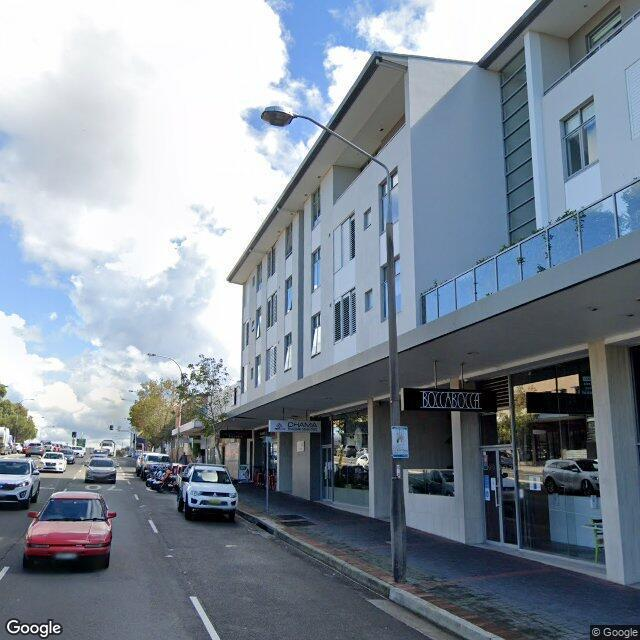steel-pole: (386, 167, 406, 583), (176, 372, 183, 462)
streetlight: (260, 103, 392, 179), (146, 351, 184, 373), (128, 389, 150, 400), (121, 398, 137, 404), (19, 398, 35, 404), (40, 425, 56, 431), (32, 416, 44, 422)
traffic-light: (72, 431, 77, 438), (110, 424, 114, 431)
